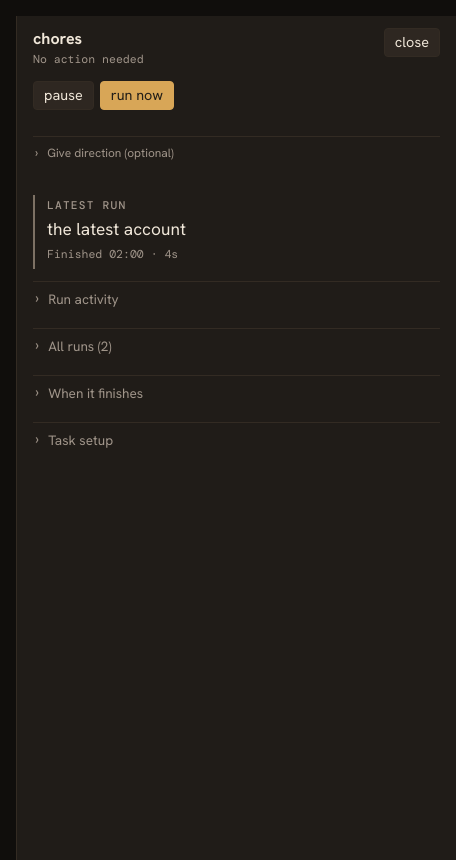
Scenario: an older run replaces the brief and closes the run list
Click the button "All runs (2)": (80, 346) 33,329 -> 440,363
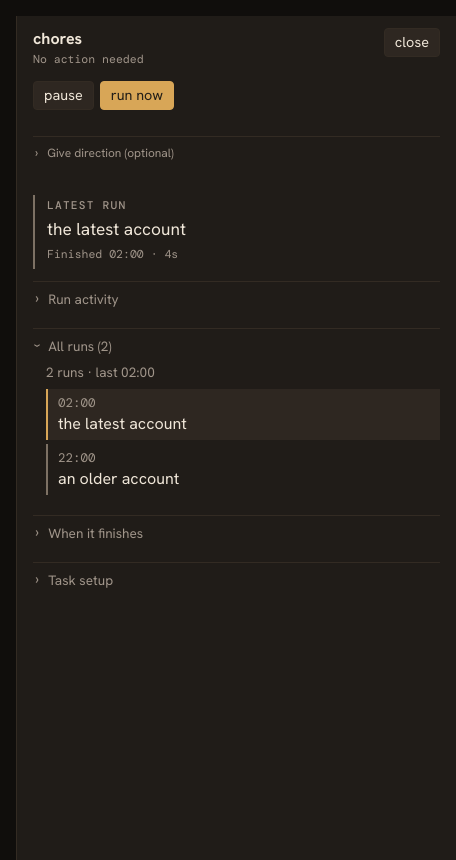
Click the button with class "run-open" showing "22:00 an older account": (77, 458) 56,444 -> 440,495
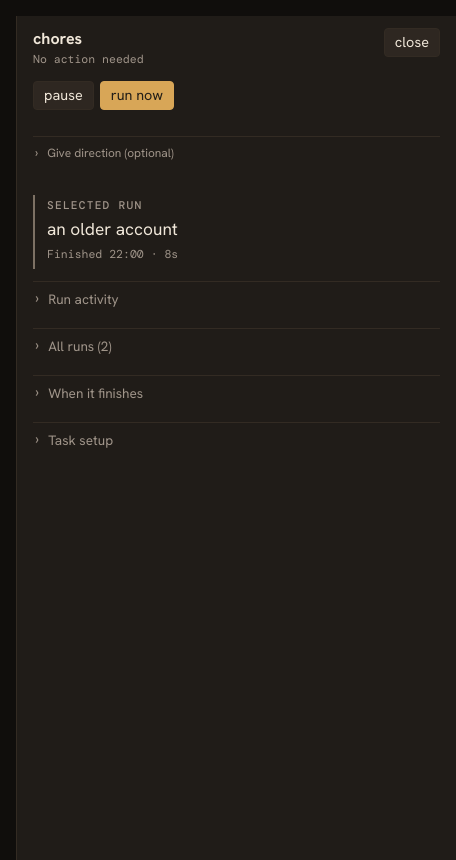
Now the heading "Selected run" is shown, box 47,198 -> 142,212
Now the text with class "run-brief-what" reads "an older account", box 47,218 -> 178,240
